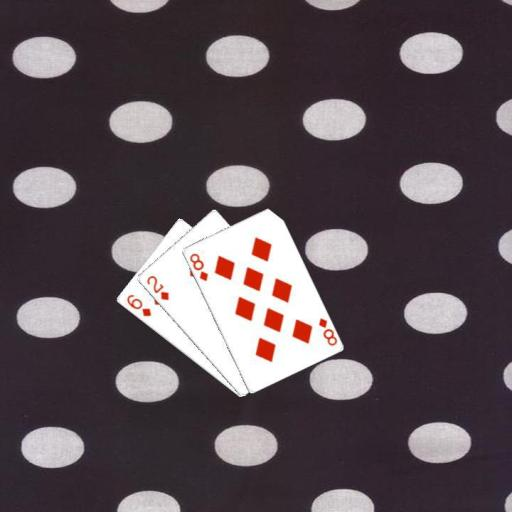2D: (143, 273, 170, 303)
6D: (123, 291, 152, 318)
8D: (315, 314, 339, 347), (186, 250, 209, 282)
